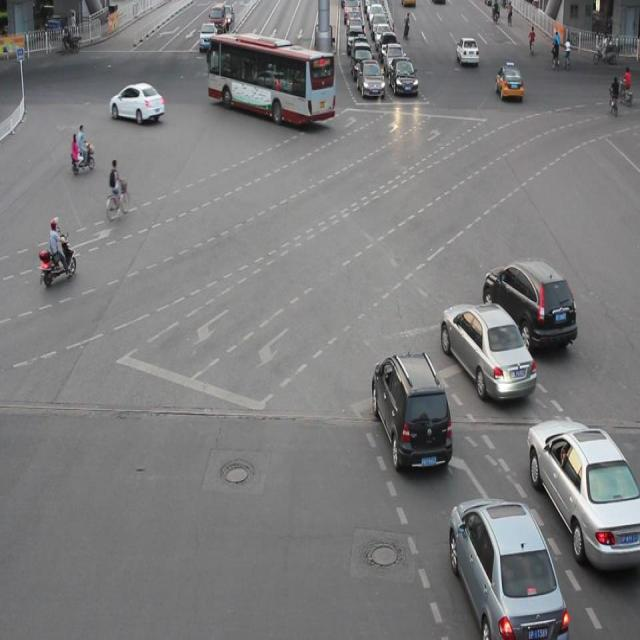car: (524, 413, 640, 571), (448, 493, 568, 640), (438, 300, 534, 403), (370, 349, 452, 466), (481, 256, 576, 352), (107, 81, 164, 124)
van: (208, 32, 336, 122)
